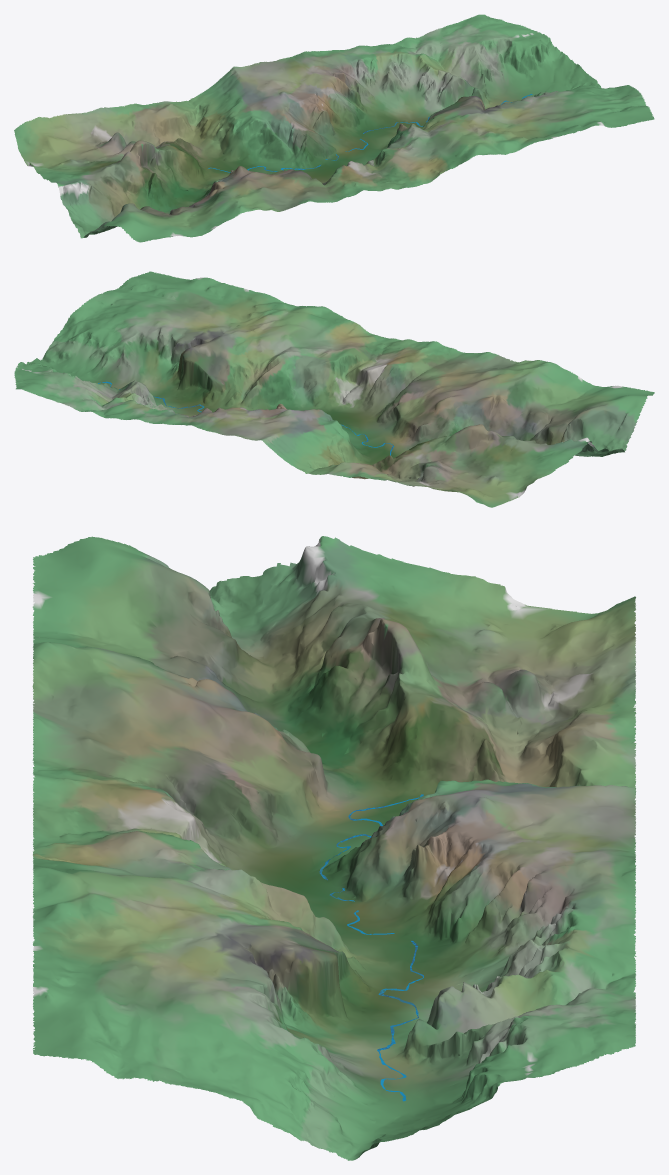
File: valley-2.glb
3 views of the same model, one above another, from view 1: azimuth 30°, elevation 25°; view 2: azimuth 150°, elevation 25°; view 3: azimuth 270°, elevation 25° (orthographic). The views are drawn at different scales.
Parts seen in each view (by area): view 1: valley.land.decimated.002; view 2: valley.land.decimated.002; view 3: valley.land.decimated.002, river.ready.
Part boxes in pixels (x1=…): valley.land.decimated.002: x1=14, y1=14, x2=654, y2=242; valley.land.decimated.002: x1=14, y1=271, x2=654, y2=507; valley.land.decimated.002: x1=32, y1=536, x2=636, y2=1160; river.ready: x1=319, y1=794, x2=423, y2=1101.
Size of the model in its own units: 61.35 by 5.49 by 29.15.
